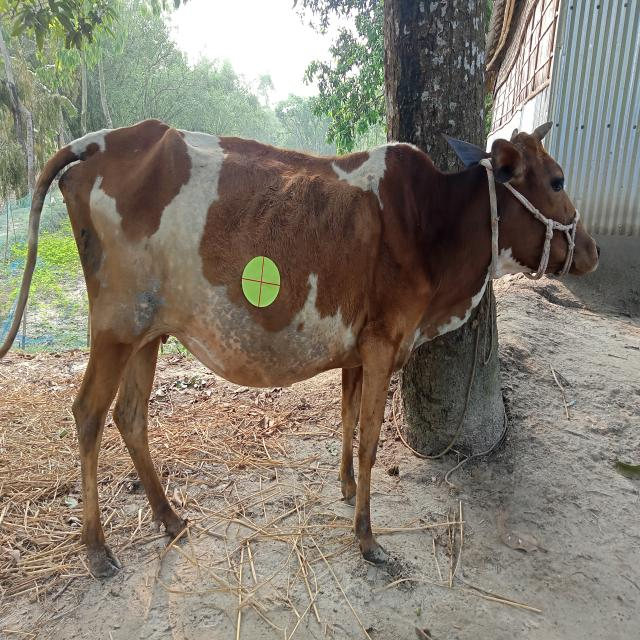badan_sapi: (62, 150, 411, 390)
sapi: (31, 107, 599, 598)
